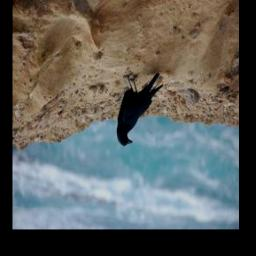Crow: (116, 71, 163, 150)
